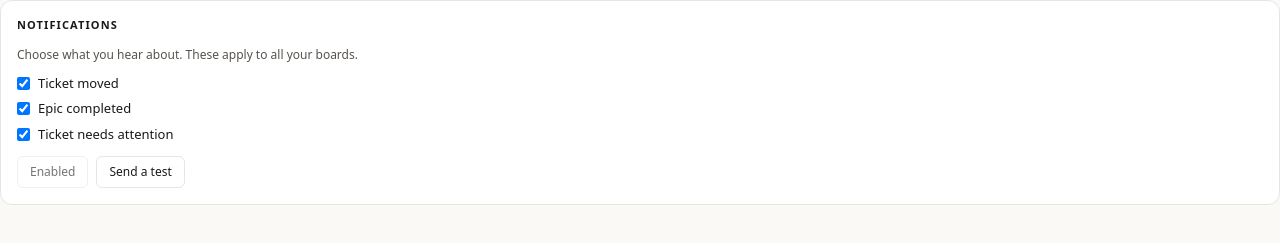
Test: NotificationsSection › with a subscription the browser already has › shows why a test did not send
Click the button "Send a test" at (141, 172), box [96,156,185,188]
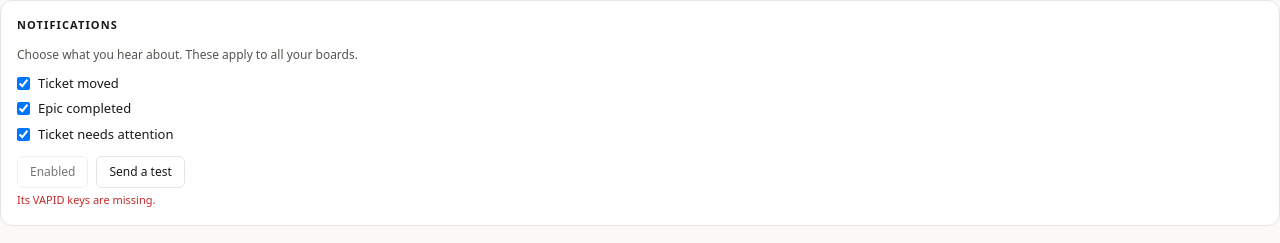
Check: the message shows "VAPID keys are missing", box [17,192,156,207]
